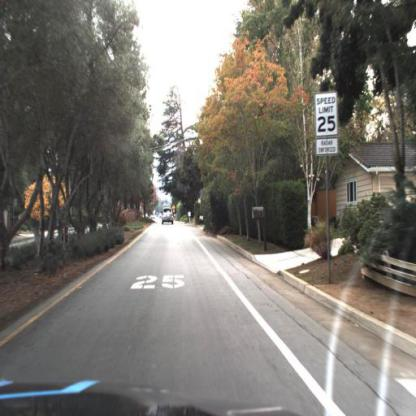car: (160, 203, 178, 227)
